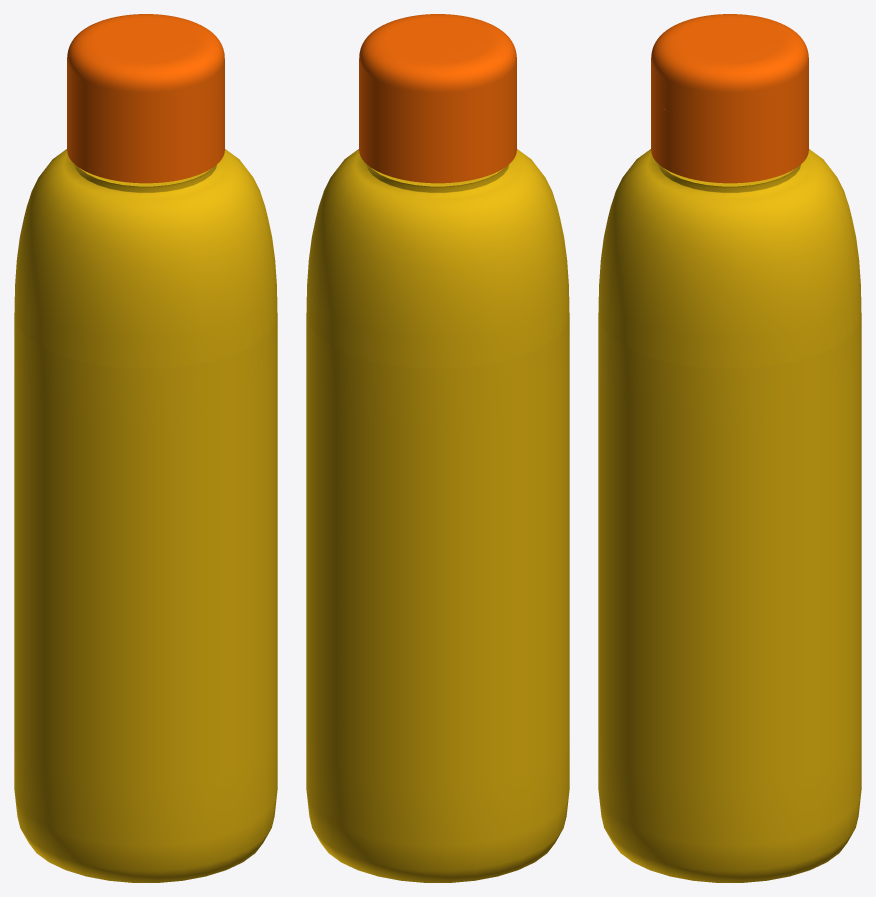
Rendered from bottle.obj.
3 renders of one model, left to right at view 1: azimuth 30°, elevation 25°; view 2: azimuth 150°, elevation 25°; view 3: azimuth 270°, elevation 25°, orthographic.
Parts seen in each view (by area): view 1: Cylinder, Cylinder2; view 2: Cylinder, Cylinder2; view 3: Cylinder, Cylinder2.
Part boxes in pixels (<box>): Cylinder: <box>14,149,277,882</box>; Cylinder2: <box>67,14,224,183</box>; Cylinder: <box>306,149,569,882</box>; Cylinder2: <box>359,14,516,183</box>; Cylinder: <box>598,149,861,882</box>; Cylinder2: <box>651,14,808,183</box>.
Size of the model in its own units: 9.95 by 33.46 by 10.
